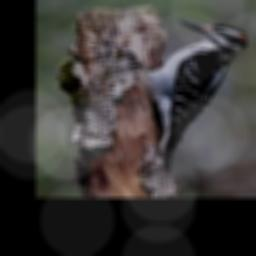Woodpecker: (144, 20, 247, 168)
